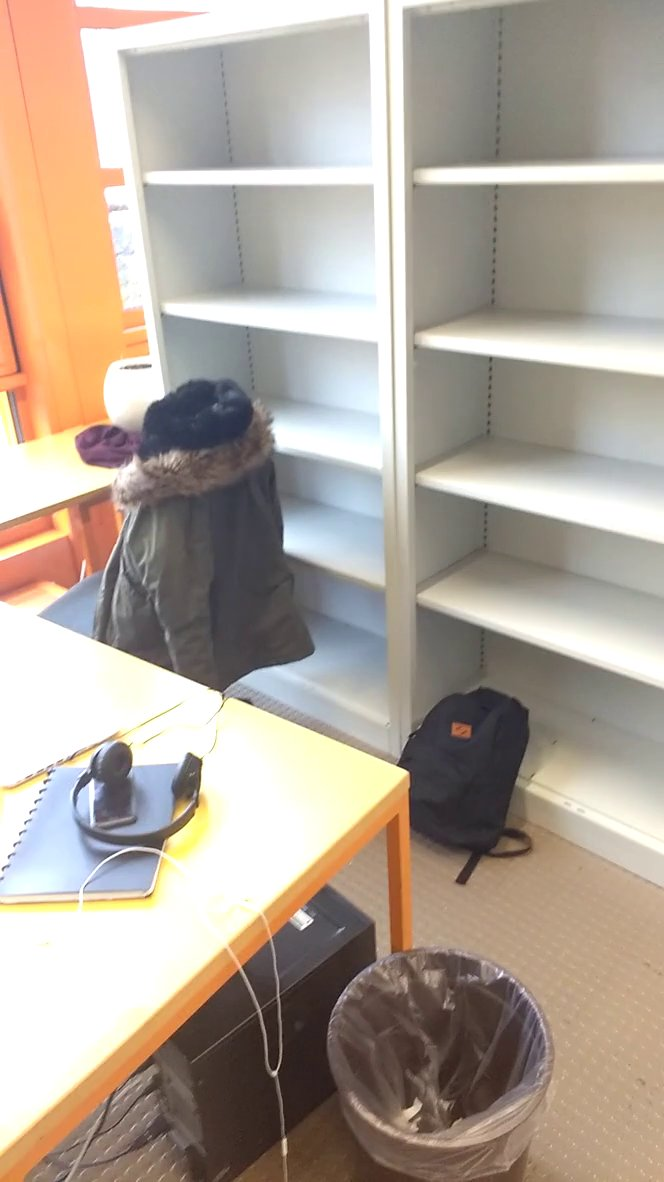bag: (384, 680, 541, 873)
bin: (312, 935, 566, 1182)
